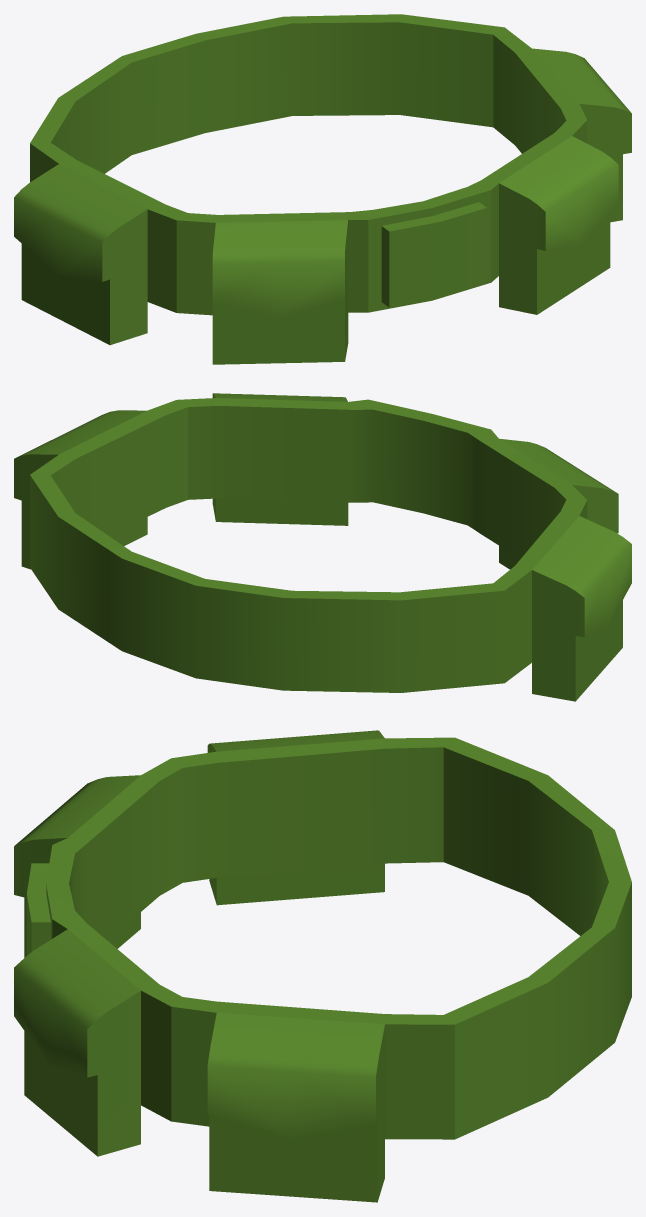
The model's file is AmmoBelt.fbx.
The picture shows the model from 3 angles, top to bottom: view 1: azimuth 30°, elevation 25°; view 2: azimuth 150°, elevation 25°; view 3: azimuth 270°, elevation 25°; orthographic projection. The views are drawn at different scales.
Parts seen in each view (by area): view 1: AmmoBelt; view 2: AmmoBelt; view 3: AmmoBelt.
Part boxes in pixels (x1,y1,x2,y2): AmmoBelt: (14, 14, 631, 364); AmmoBelt: (14, 393, 631, 701); AmmoBelt: (14, 730, 631, 1202).
Bounding box in the file's own units: 0.421 × 0.0902 × 0.3186.
Materials: 1 (1 with a texture image).
